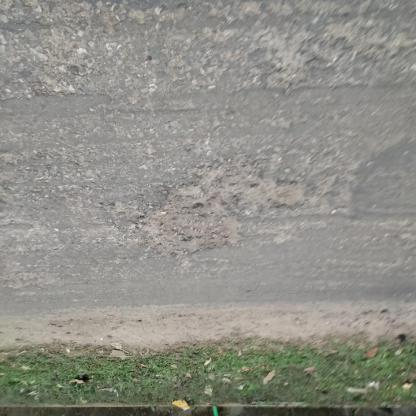pothole: (136, 165, 308, 266)
